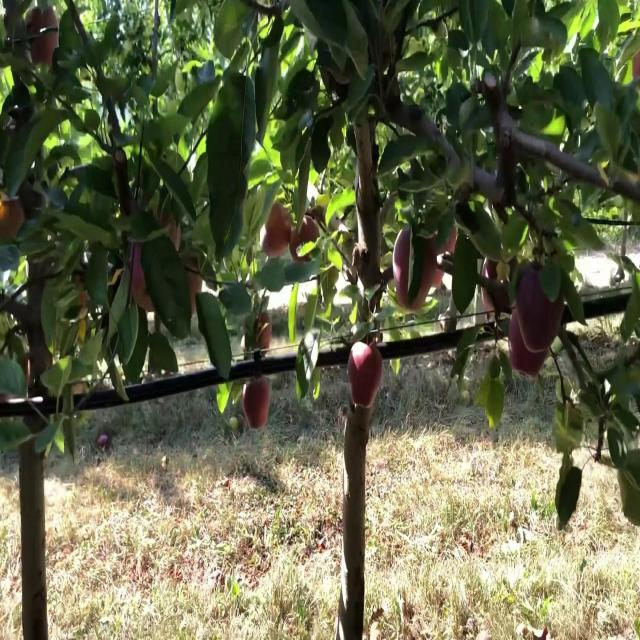apple: (516, 270, 564, 352), (396, 227, 440, 315), (348, 341, 384, 405), (508, 319, 546, 379), (428, 227, 459, 284), (244, 376, 271, 432), (264, 206, 292, 260), (132, 248, 154, 313), (292, 213, 320, 263), (428, 227, 459, 270), (484, 263, 508, 315), (32, 28, 60, 68), (0, 199, 25, 242), (188, 263, 204, 311), (160, 213, 182, 247), (256, 312, 272, 354), (36, 7, 60, 34), (76, 277, 89, 309), (632, 49, 640, 82)
